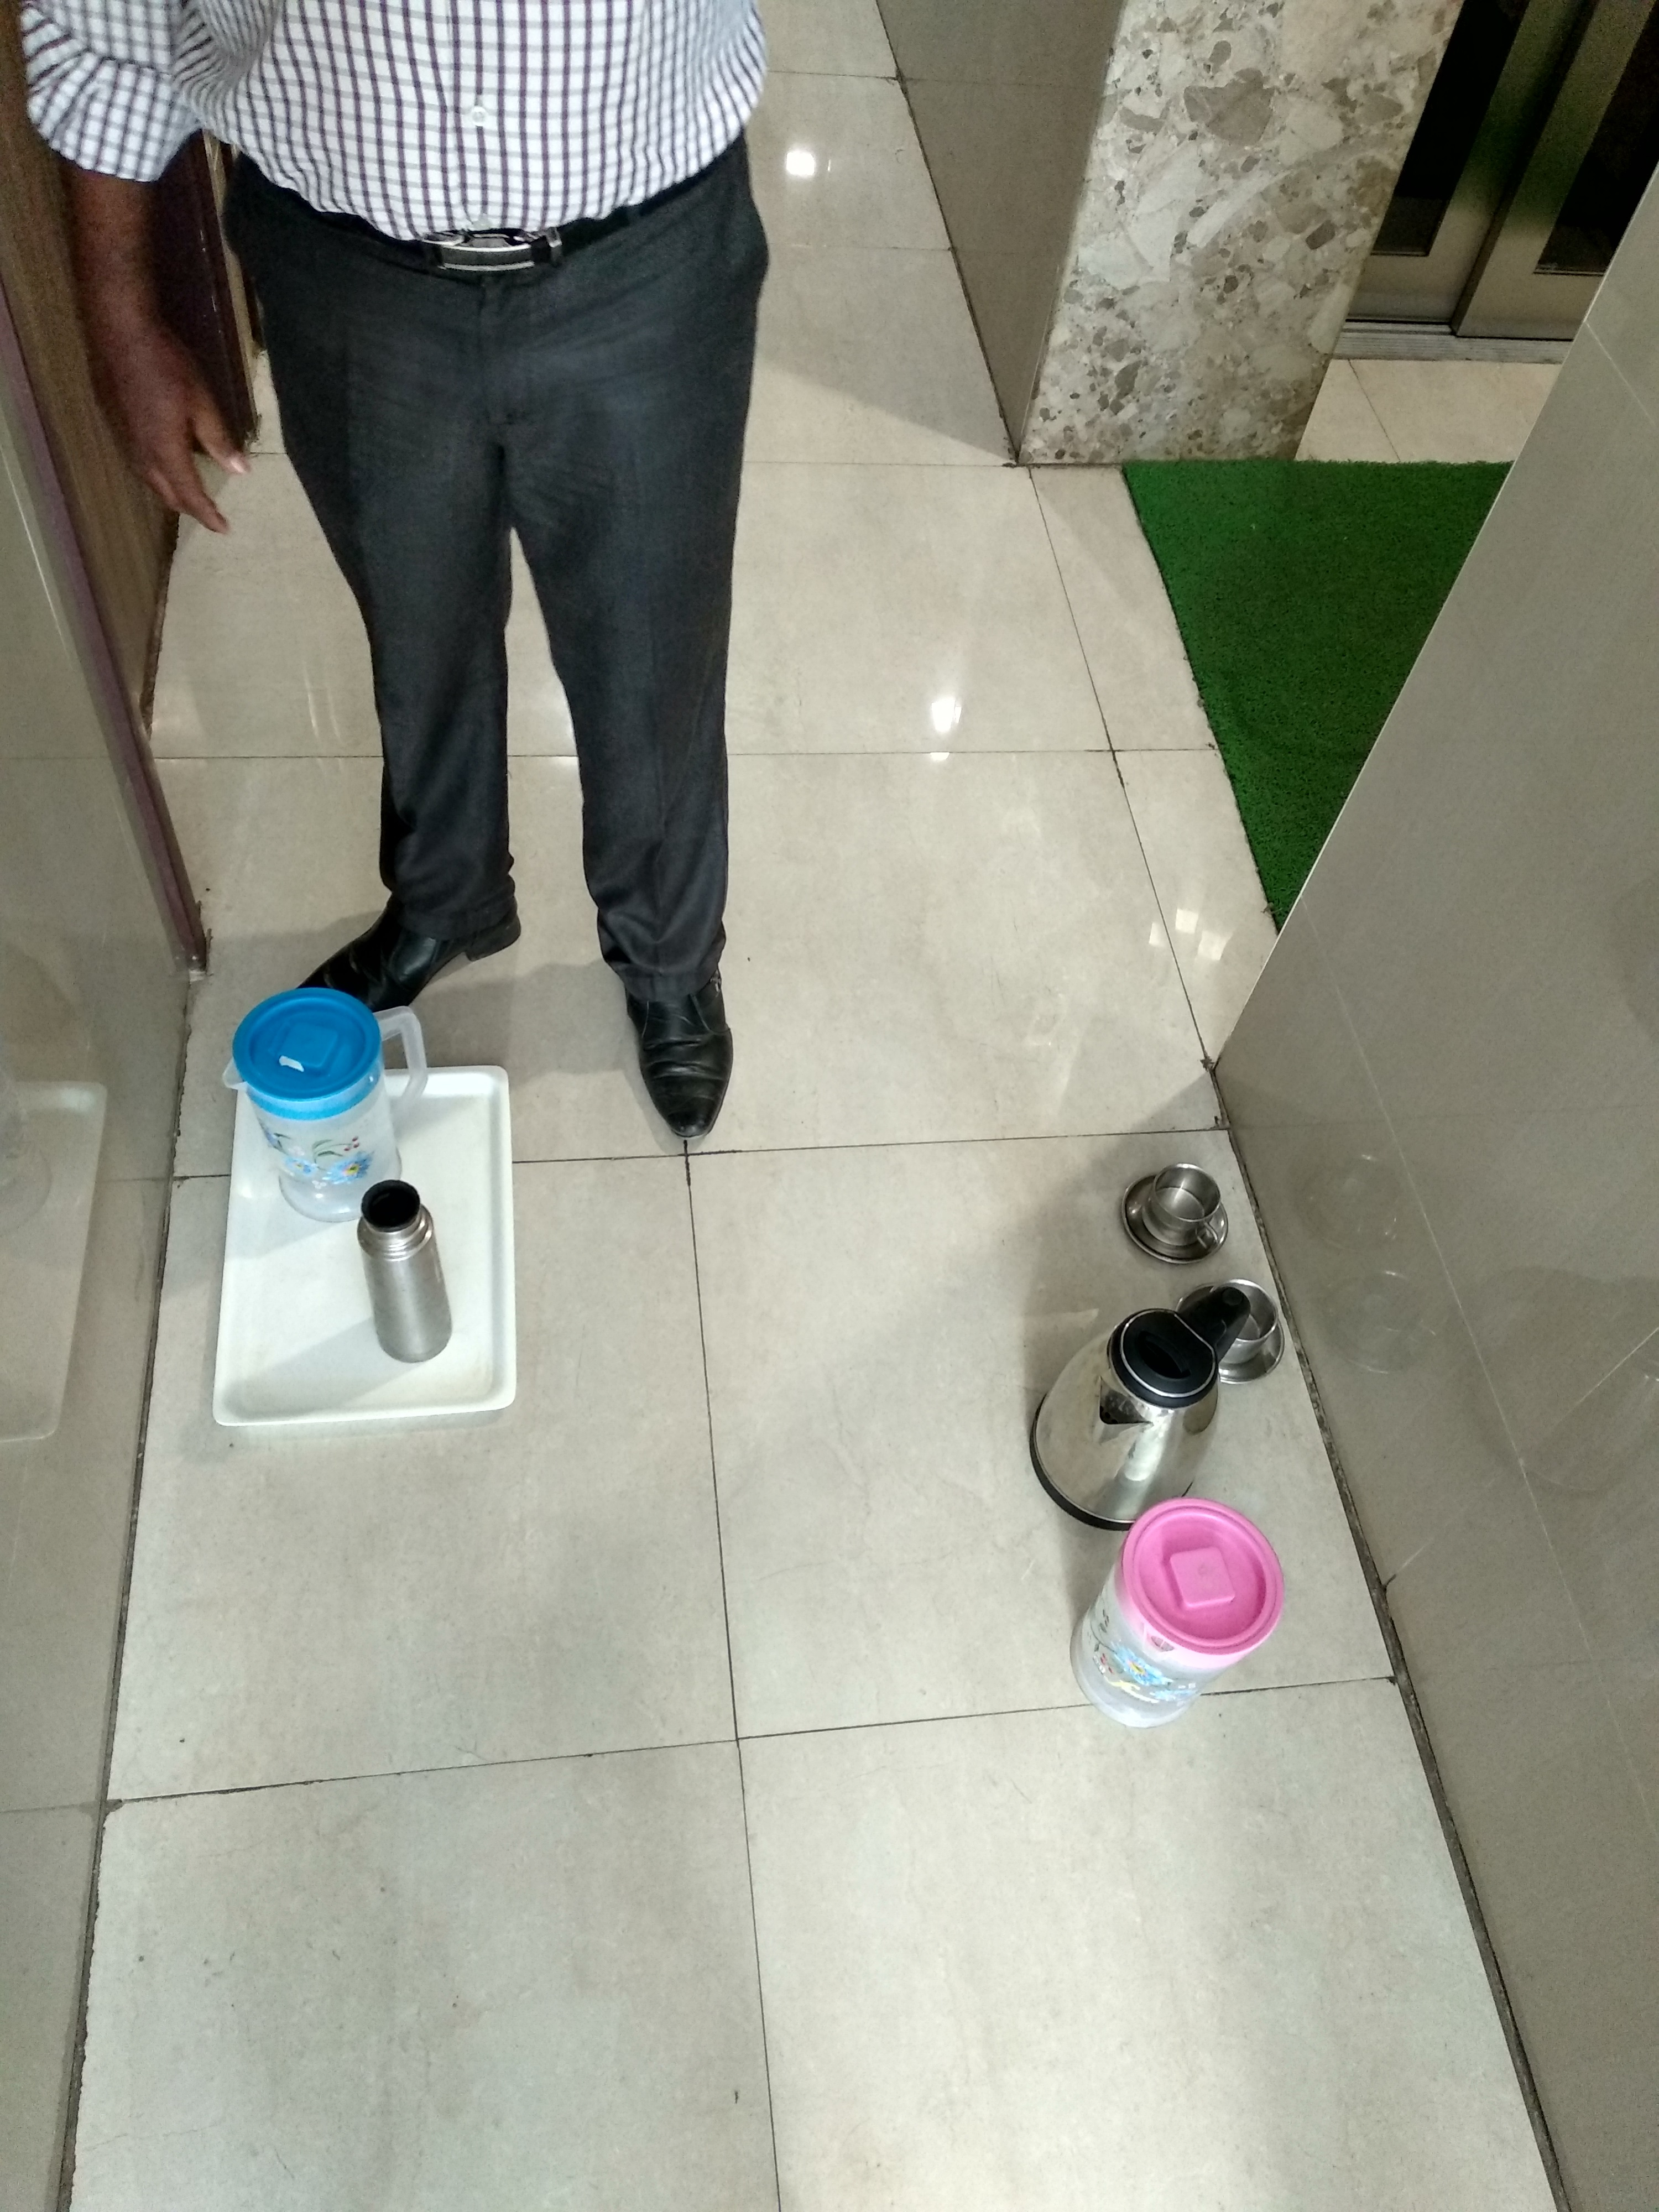CUP: (1112, 1143, 1249, 1256), (1183, 1278, 1307, 1383)
FLASK: (342, 1176, 471, 1376)
JUG: (1021, 1294, 1248, 1536), (1086, 1493, 1297, 1730), (213, 967, 437, 1174)
